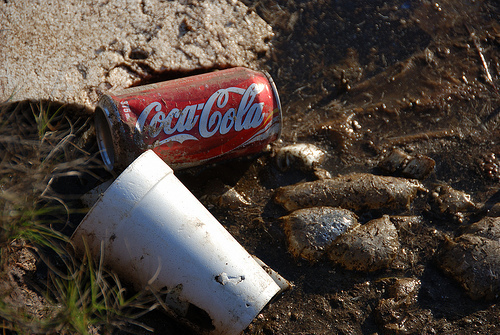litter: (70, 149, 293, 335), (90, 66, 283, 167)
